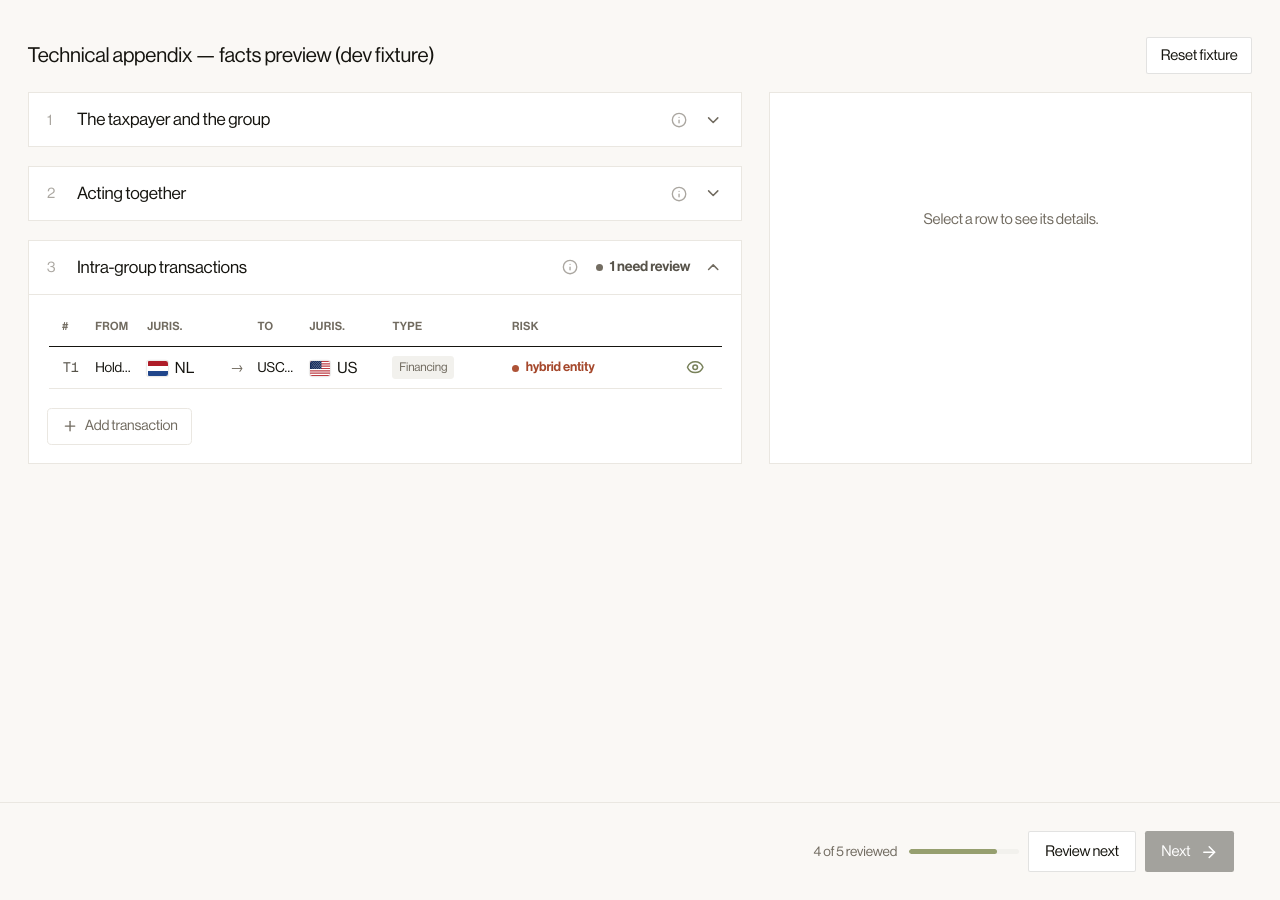
Test: Facts page review gate (dev preview harness) › Review next opens the first unresolved item in the panel
Click the button "Review next": (1082, 852) [1028,831,1136,872]
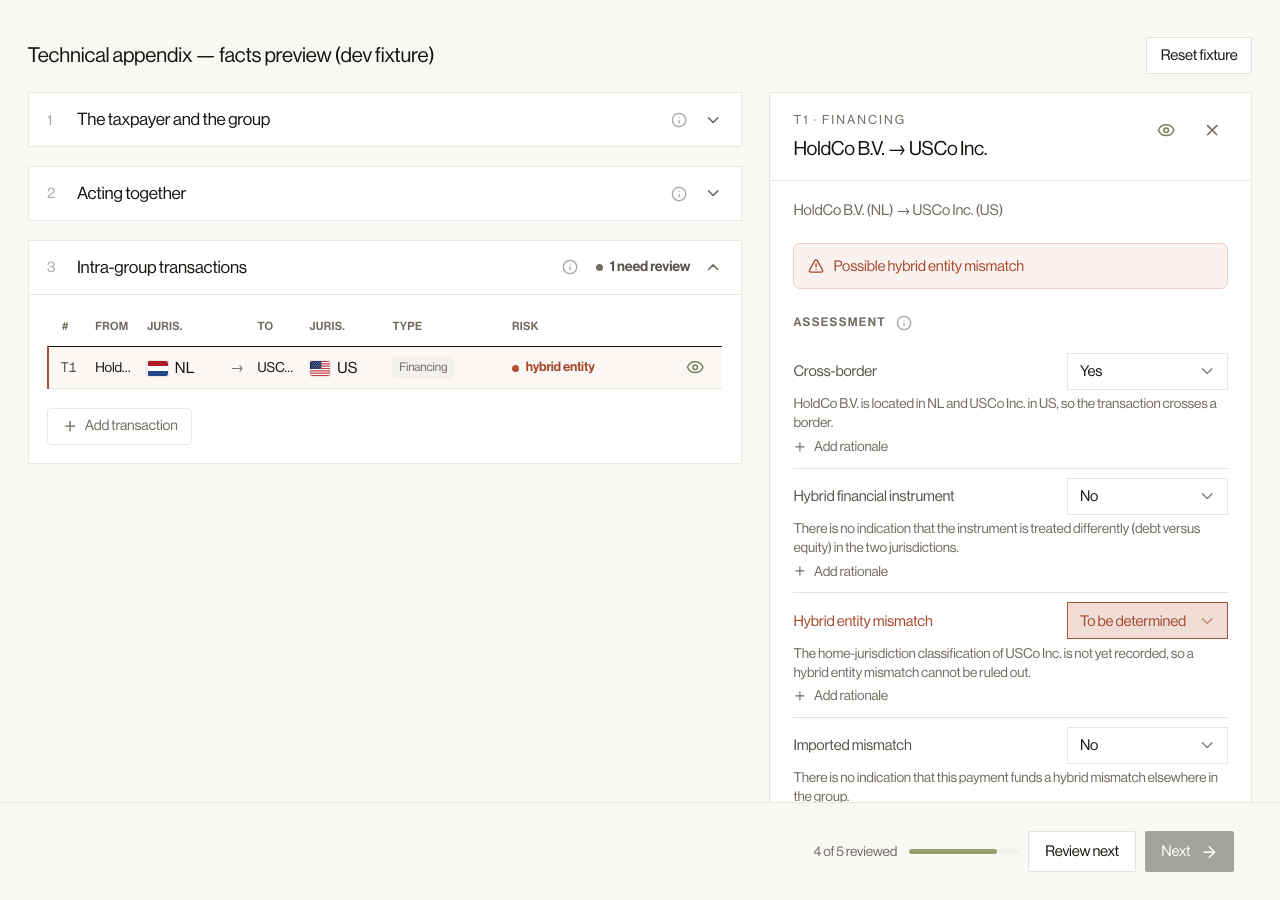
Expected: the text "T1 · Financing" is shown, [793,112,906,127]
